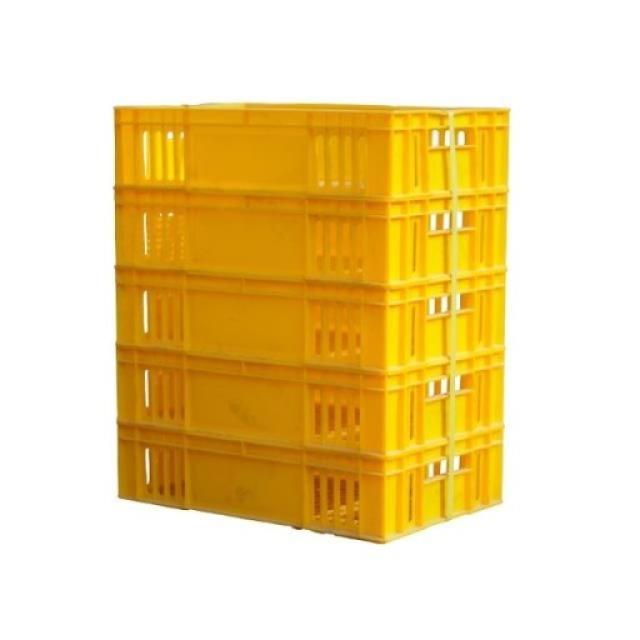basket: (110, 101, 509, 544)
